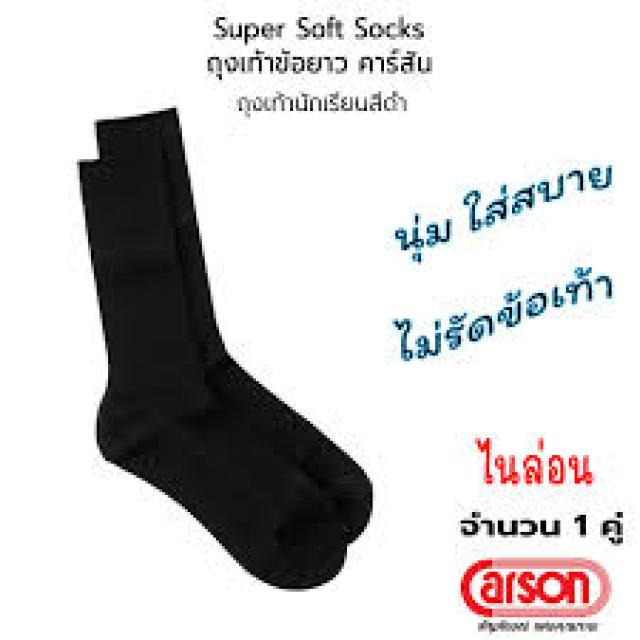sock: (74, 102, 373, 589)
